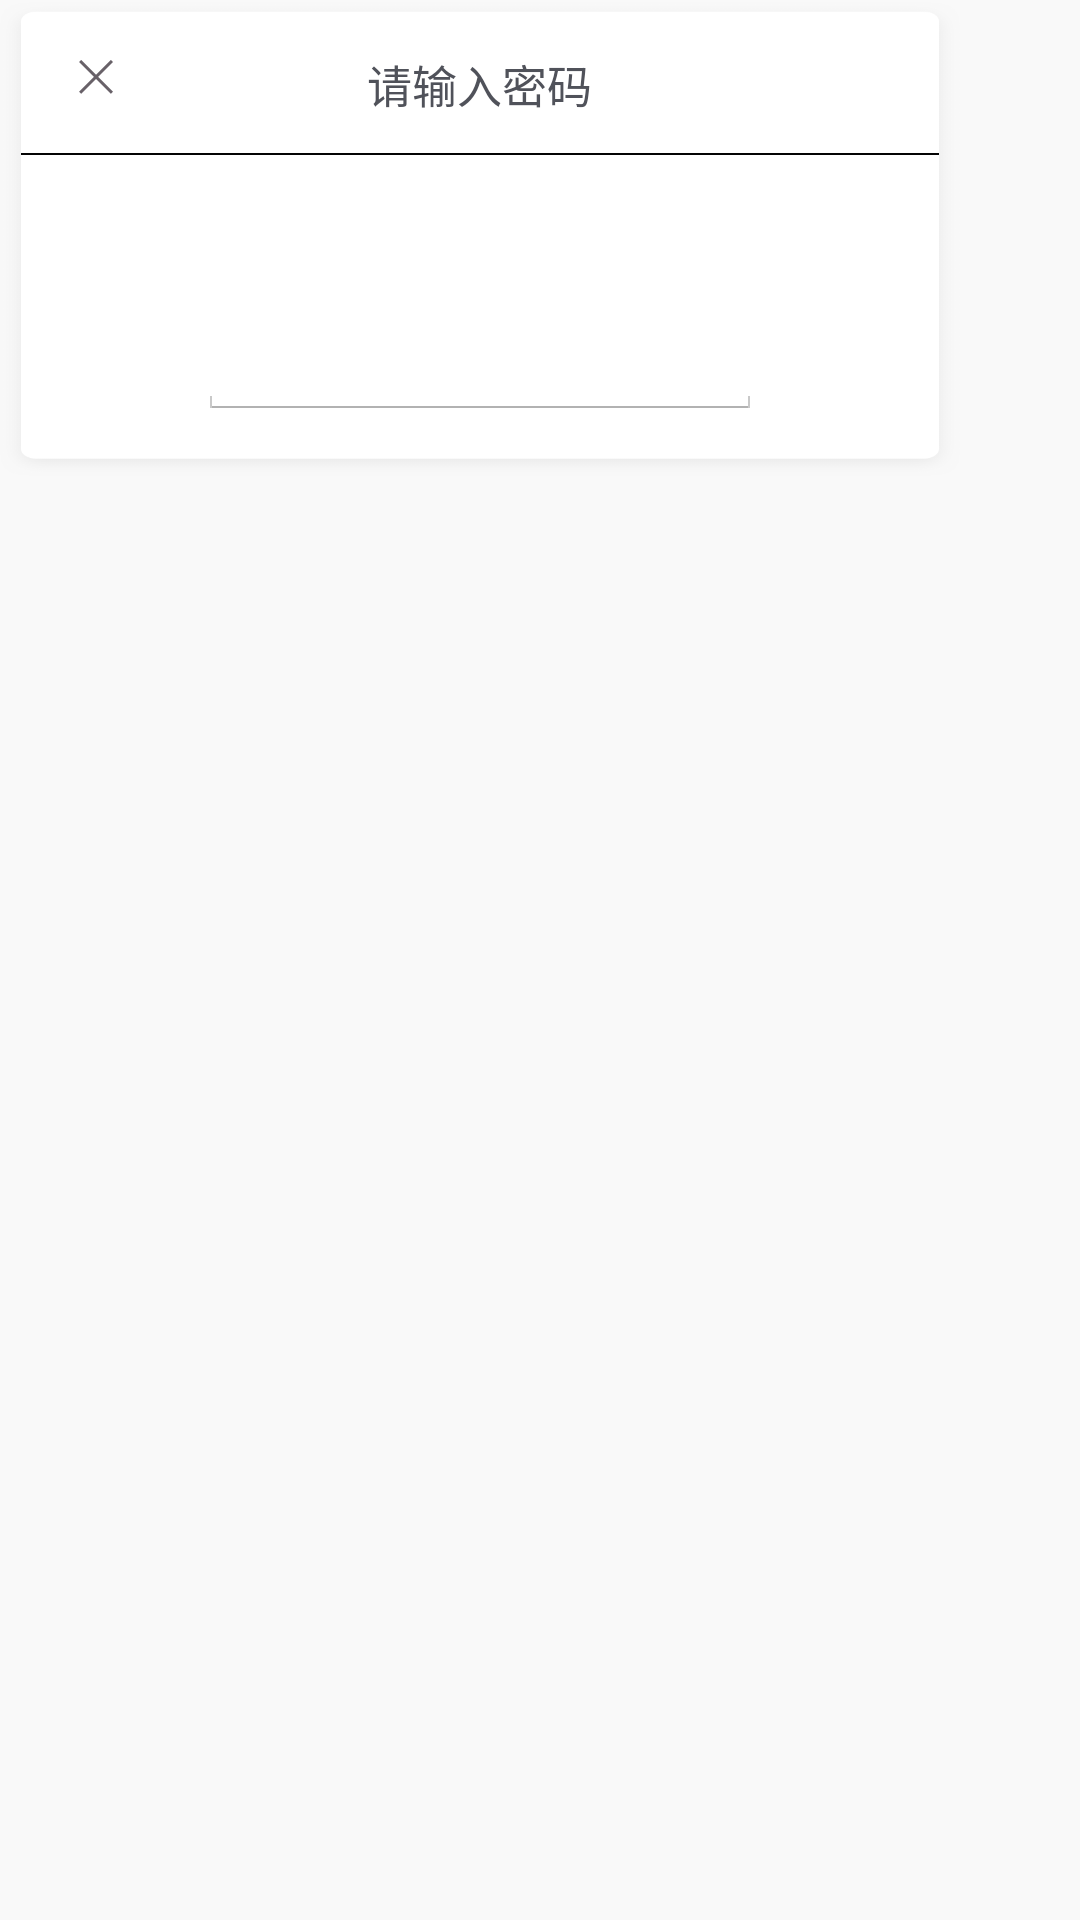

Point at icon controls on the screen. Image size 1080px x 1920px, points as (x=x, y=y).
cancle: (x=96, y=77)
